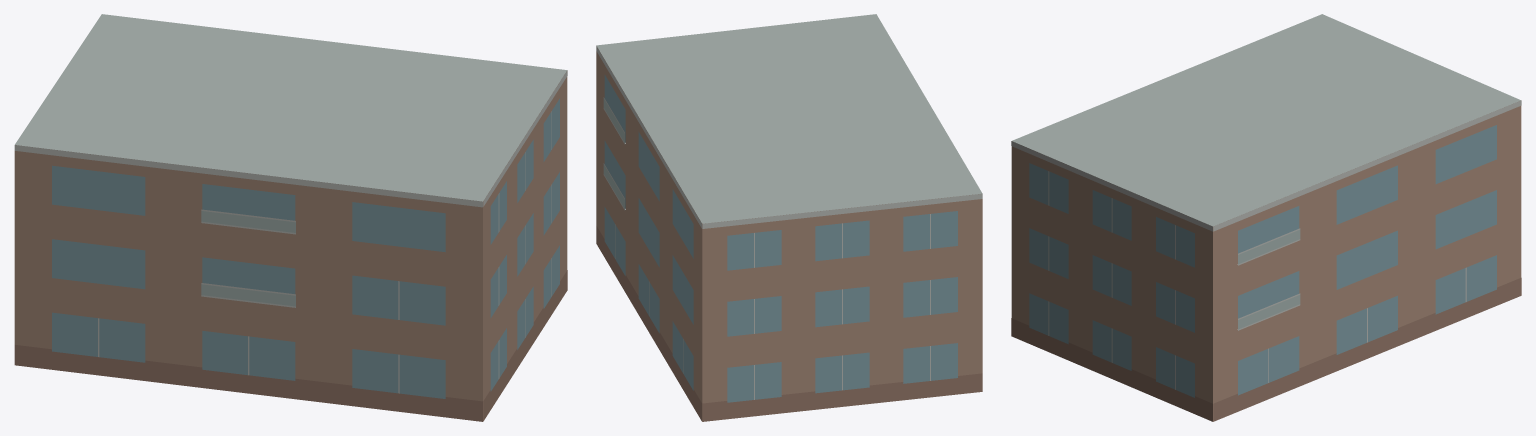
Rendered from survey-upis-32887644.glb.
3 renders of one model, left to right at view 1: azimuth 30°, elevation 25°; view 2: azimuth 150°, elevation 25°; view 3: azimuth 270°, elevation 25°, orthographic. The views are drawn at different scales.
Parts seen in each view (by area): view 1: survey-upis-32887644.tmp; view 2: survey-upis-32887644.tmp; view 3: survey-upis-32887644.tmp.
Boxes of the visible parts, bbox=[...] form: survey-upis-32887644.tmp: bbox=[14, 14, 567, 421]; survey-upis-32887644.tmp: bbox=[596, 14, 982, 421]; survey-upis-32887644.tmp: bbox=[1011, 14, 1521, 421].
Bounding box in the file's own units: 21.36 × 9.15 × 21.65.
